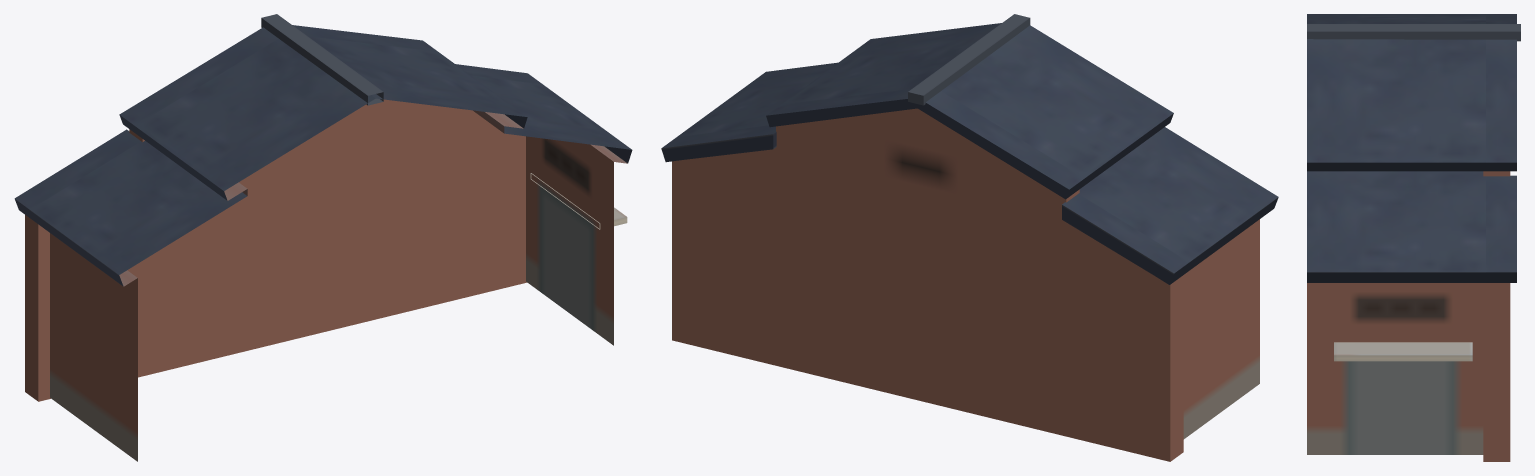
File: Universal_Building_Warehouse_L2_04_Mod.fbx
3 renders of one model, left to right at view 1: azimuth 30°, elevation 25°; view 2: azimuth 150°, elevation 25°; view 3: azimuth 270°, elevation 25°, orthographic.
Visible parts, largest first — view 1: Universal_Building_Warehouse_L2_04_Mod; view 2: Universal_Building_Warehouse_L2_04_Mod; view 3: Universal_Building_Warehouse_L2_04_Mod.
Part boxes in pixels (bbox=[...]): Universal_Building_Warehouse_L2_04_Mod: bbox=[14, 14, 632, 461]; Universal_Building_Warehouse_L2_04_Mod: bbox=[661, 14, 1278, 461]; Universal_Building_Warehouse_L2_04_Mod: bbox=[1307, 14, 1520, 461].
Size of the model in its own units: 1129 by 644 by 400.
